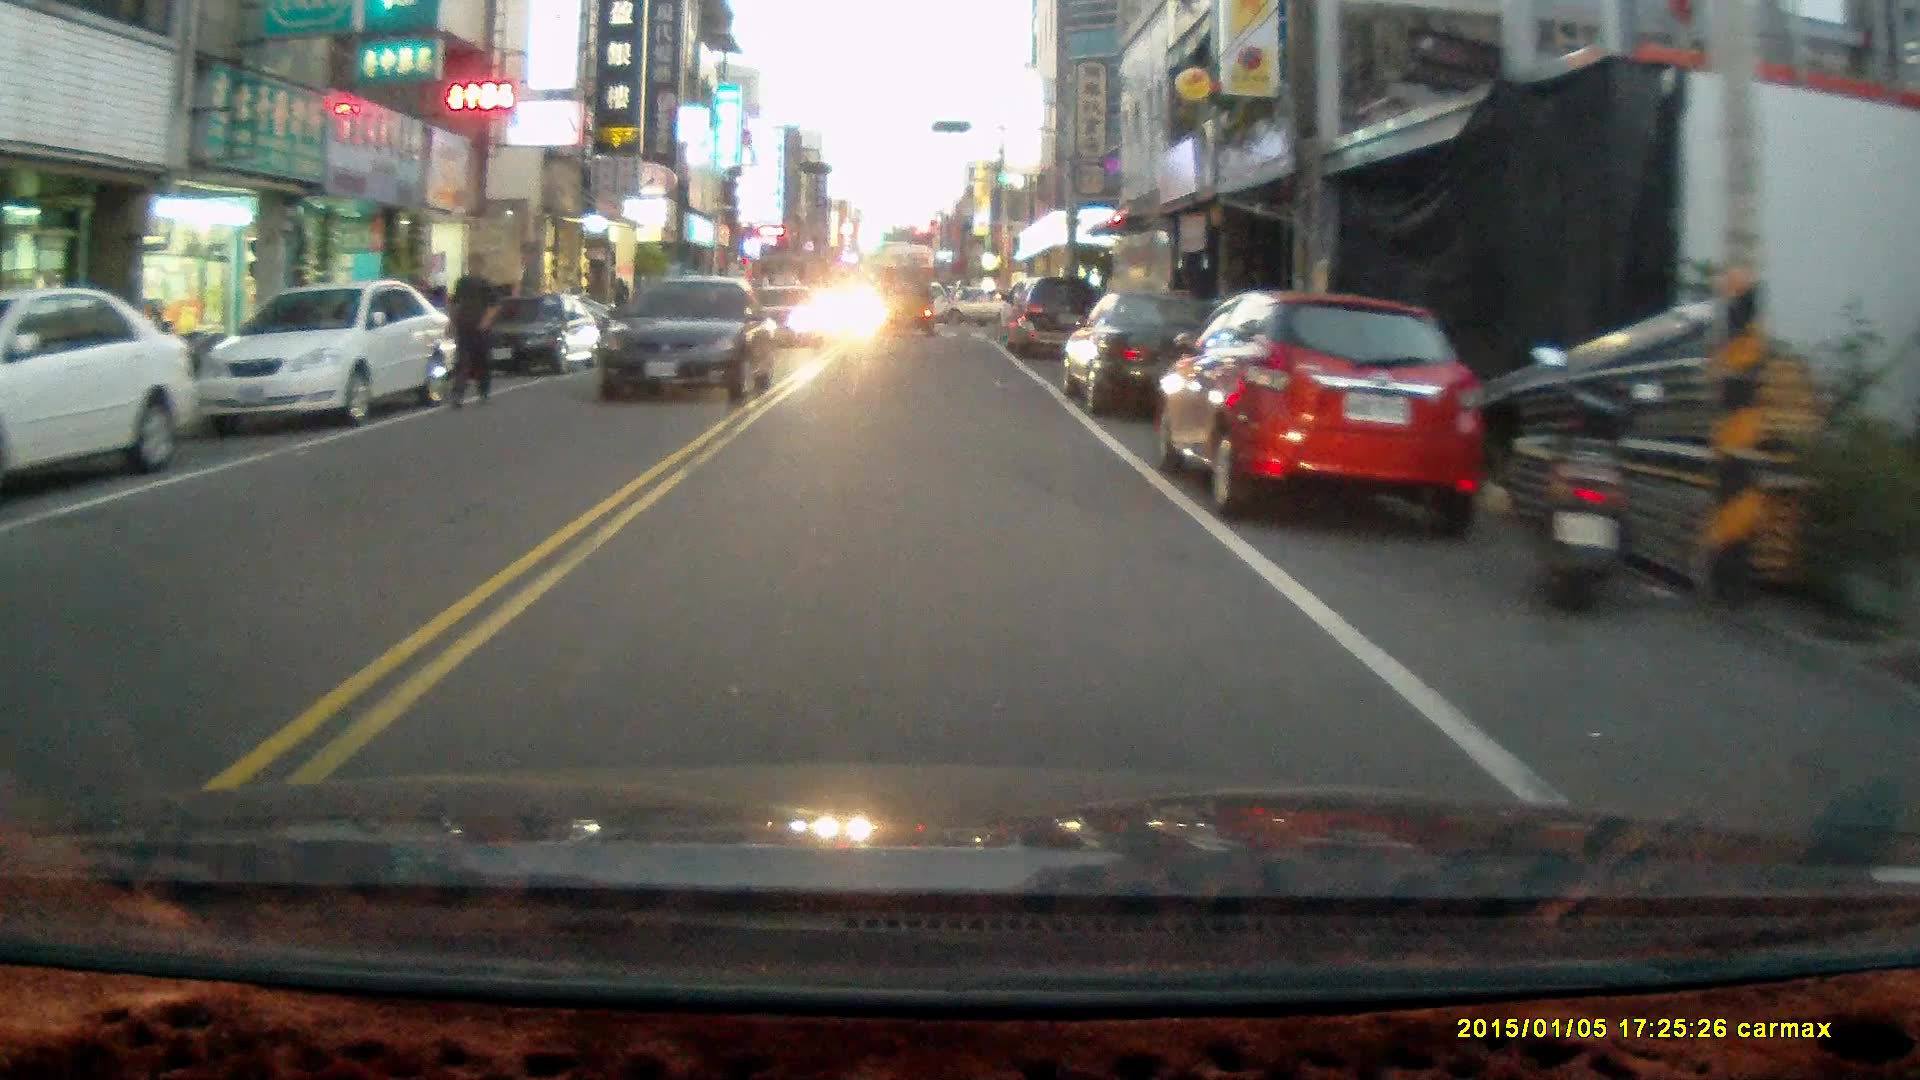pedestrian: (439, 248, 500, 410)
vehicle: (1159, 294, 1490, 529), (1, 286, 200, 502), (200, 278, 459, 429), (595, 273, 782, 406), (1062, 287, 1226, 420), (474, 289, 600, 382), (998, 272, 1112, 363), (872, 264, 938, 336)
